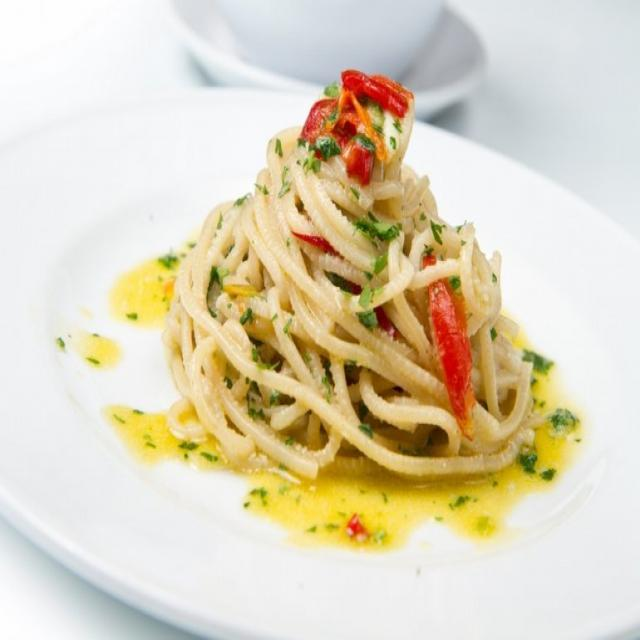Oil pasta: (140, 40, 600, 518)
